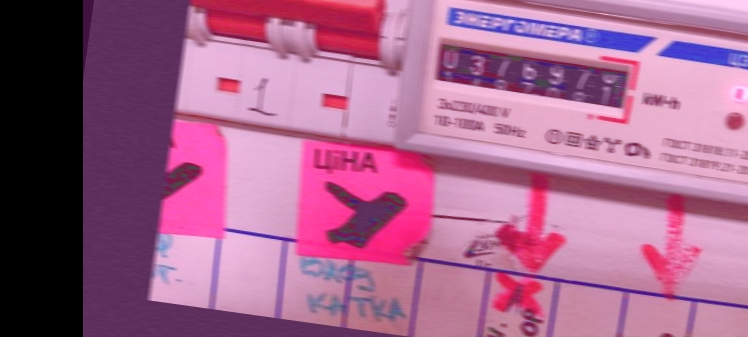0: (442, 46, 460, 70)
1: (599, 84, 611, 107)
3: (469, 53, 485, 76)
6: (521, 57, 539, 81)
7: (495, 54, 512, 79), (574, 65, 591, 90)
9: (548, 62, 564, 86)
screen: (421, 27, 643, 128)
